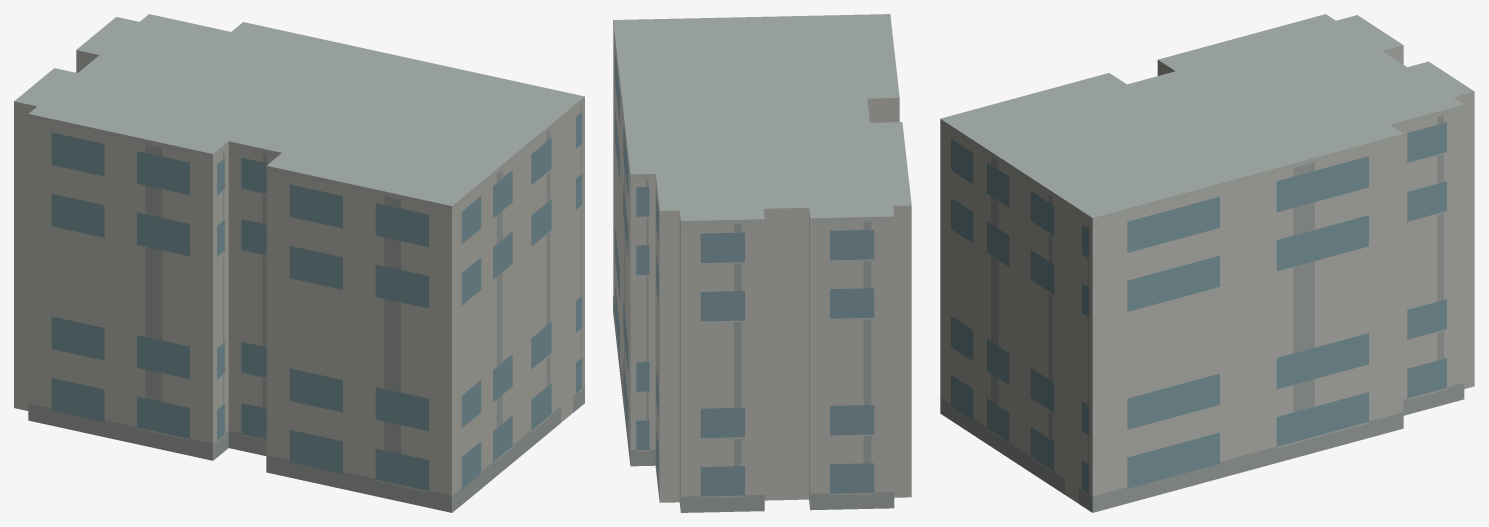
The model's file is survey-upis-32861897.glb.
3 views of the same model, side by side, from view 1: azimuth 30°, elevation 25°; view 2: azimuth 150°, elevation 25°; view 3: azimuth 270°, elevation 25° (orthographic). The views are drawn at different scales.
Visible parts, largest first — view 1: survey-upis-32861897.tmp; view 2: survey-upis-32861897.tmp; view 3: survey-upis-32861897.tmp.
Part boxes in pixels (left/top/right/bottom): survey-upis-32861897.tmp: left=14, top=14, right=584, bottom=512; survey-upis-32861897.tmp: left=613, top=14, right=911, bottom=512; survey-upis-32861897.tmp: left=940, top=14, right=1474, bottom=512.
Bounding box in the file's own units: 22.72 × 15.3 × 25.14.
